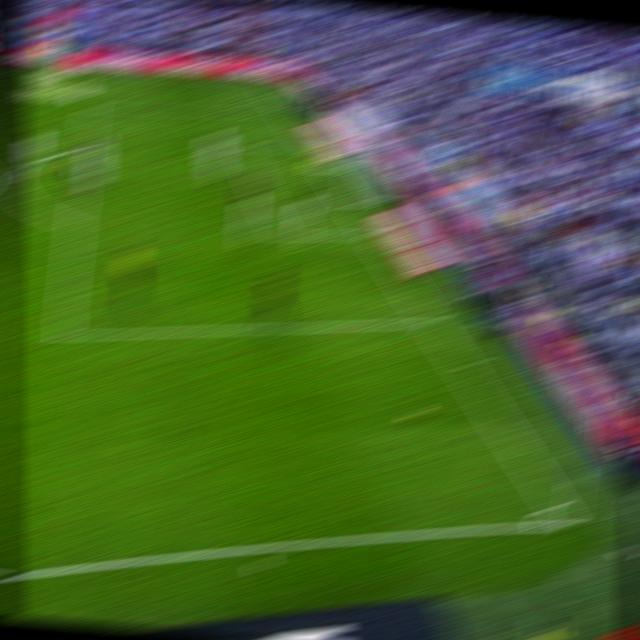bigarea_bottom_inner: (49, 319, 77, 345)
bigarea_top_inner: (81, 100, 99, 111)
bottom_arc_area_intersection: (421, 313, 442, 329)
smallarea_bottom_outter: (360, 225, 381, 239)
smallarea_top_outter: (300, 139, 320, 150)
